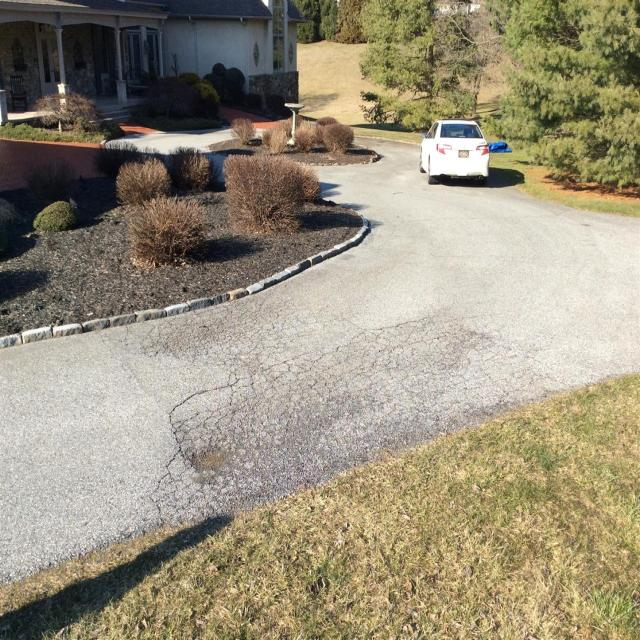Drain Hole: (173, 324, 454, 513)
